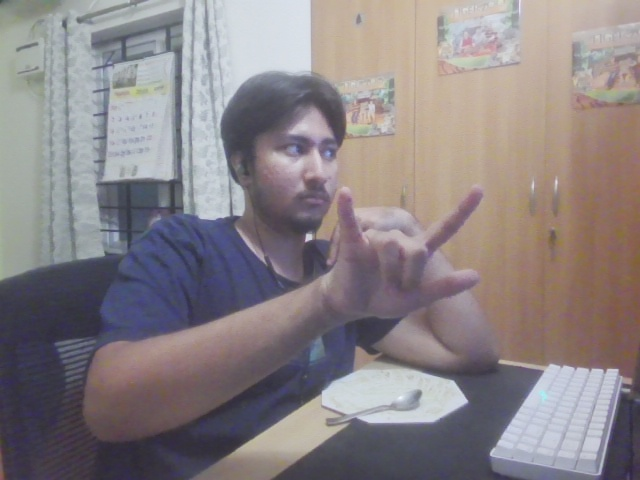iloveyou: (326, 181, 491, 323)
